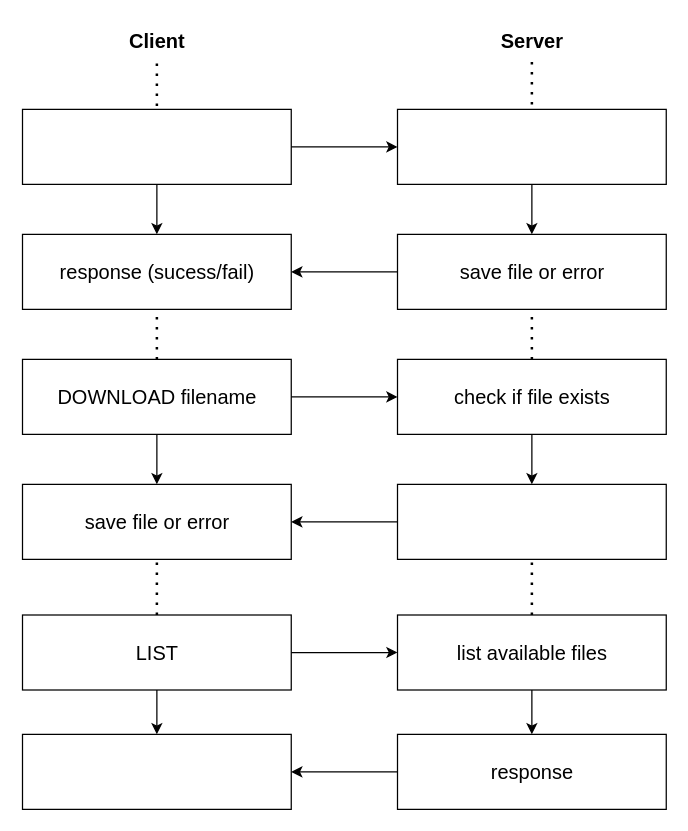
Image size: 688x831. Some labels were removed from this diagram. The centre of each missing label's shape, as x and y in pixels:
file names: [156,771]
receive file: [531,146]
send file or error: [531,521]
UPLOAD filename content: [156,146]
